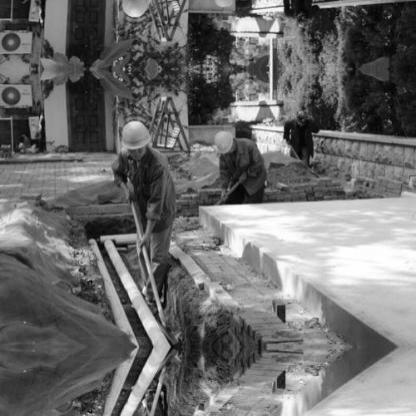helmet: (120, 116, 151, 158), (119, 0, 151, 23), (209, 129, 233, 153), (294, 109, 311, 128), (294, 11, 311, 30), (209, 0, 234, 10)
